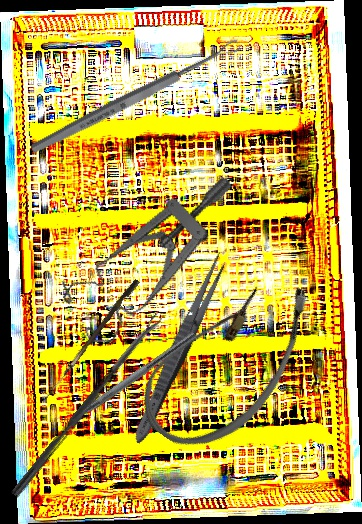Cannula: (125, 246, 331, 473)
Chopper: (54, 322, 198, 433)
Dressing Forceps: (128, 248, 232, 448)
Hook Surgical: (42, 276, 141, 407)
Speculum: (43, 174, 269, 352)
Surgical Spoon: (10, 313, 164, 499), (28, 37, 243, 157)
